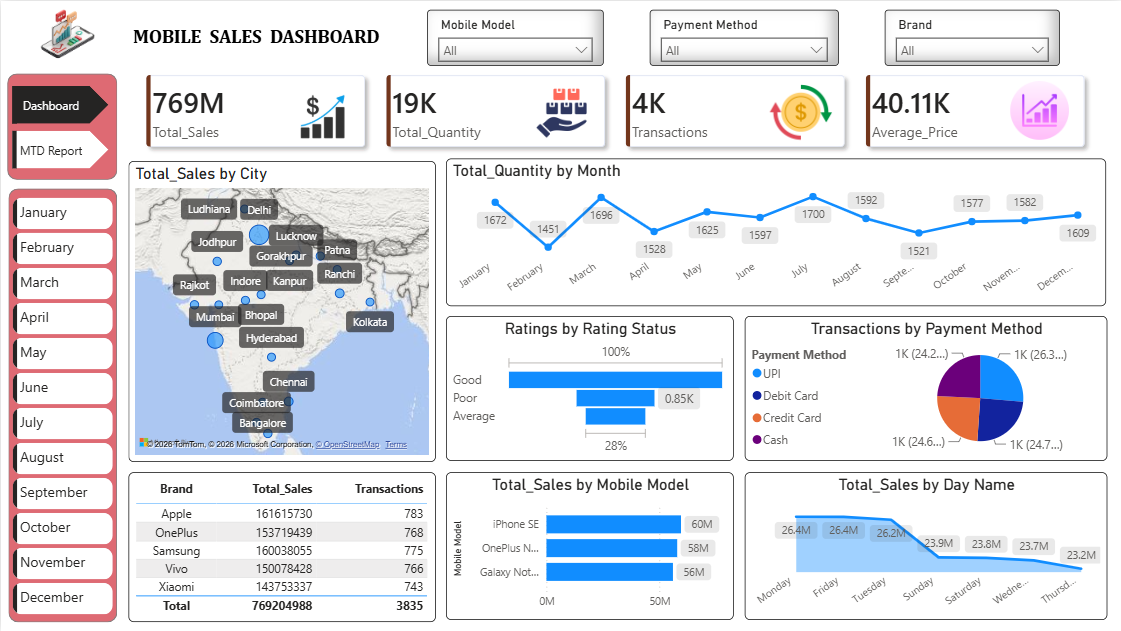

This screenshot's page, from the dashboard's own definition file:
{"tool":"powerbi","page":{"name":"Dashboard","canvas":[1280,720],"ordinal":0},"visuals":[{"type":"shape","box":[7.1,82.9,125.7,121.4],"z":0},{"type":"shape","box":[8.6,214.3,124.3,495.7],"z":1000},{"type":"cardVisual","fields":{"Data":["Sales_Data.Total_Sales","Sales_Data.Total_Quantity","Sales_Data.Transactions","Sales_Data.Average_Price"]},"box":[137.1,55.7,1141.4,137.1],"z":2000},{"type":"image","box":[336.7,107.6,60.8,50.6],"z":3000},{"type":"image","box":[605.1,98.7,69.6,59.5],"z":4000},{"type":"image","box":[878.5,89.9,70.9,74.7],"z":5000},{"type":"image","box":[1148.1,91.1,77.2,67.1],"z":6000},{"type":"textbox","box":[145.7,22.9,307.1,48.6],"z":7000},{"type":"map","fields":{"Category":["Sales_Data.City"],"Size":["Sales_Data.Total_Sales"]},"box":[145.7,182.9,351.4,344.3],"z":8000},{"type":"lineChart","fields":{"Category":["Custom_Calender.Date.Variation.Date Hierarchy.Month"],"Y":["Sales_Data.Total_Quantity"]},"box":[508.6,180,754.3,168.6],"z":9000},{"type":"funnel","title":"Ratings by Rating Status","fields":{"Y":["CountNonNull(Sales_Data.Customer Ratings)"],"Category":["Sales_Data.Rating Status"]},"box":[508.6,360,328.6,165.7],"z":10000},{"type":"pieChart","fields":{"Y":["Sales_Data.Transactions"],"Category":["Sales_Data.Payment Method"]},"box":[850,360,414.3,165.7],"z":11000},{"type":"clusteredBarChart","fields":{"Y":["Sales_Data.Total_Sales"],"Category":["Sales_Data.Mobile Model"]},"box":[508.6,538.6,328.6,168.6],"z":12000},{"type":"areaChart","fields":{"Y":["Sales_Data.Total_Sales"],"Category":["Custom_Calender.Day Name"]},"box":[850,538.6,414.3,168.6],"z":13000},{"type":"tableEx","fields":{"Values":["Sales_Data.Brand","Sales_Data.Total_Sales","Sales_Data.Transactions"]},"box":[145.7,538.6,351.4,171.4],"z":14000},{"type":"image","box":[7.1,2.9,137.1,71.4],"z":15000},{"type":"advancedSlicerVisual","fields":{"Values":["Custom_Calender.Date.Variation.Date Hierarchy.Month"]},"box":[8.6,220,124.3,492.9],"z":16000},{"type":"slicer","fields":{"Values":["Sales_Data.Mobile Model"]},"box":[487.1,10,201.4,64.3],"z":17000},{"type":"slicer","fields":{"Values":["Sales_Data.Payment Method"]},"box":[741.4,10,215.7,64.3],"z":18000},{"type":"slicer","fields":{"Values":["Sales_Data.Brand"]},"box":[1010,10,200,64.3],"z":19000},{"type":"pageNavigator","box":[12.9,97.1,110,94.3],"z":20000}]}

Visuals, with their boxes in screenshot pixels (x1, y1, x2, y2), scaled from the page's 1280x720 canvas onto the 1121x631 screenshot:
shape: [x1=6, y1=73, x2=116, y2=179]
shape: [x1=8, y1=188, x2=116, y2=622]
cardVisual - Sales_Data.Total_Sales x Sales_Data.Total_Quantity: [x1=120, y1=49, x2=1120, y2=169]
image: [x1=295, y1=94, x2=348, y2=139]
image: [x1=530, y1=86, x2=591, y2=139]
image: [x1=769, y1=79, x2=831, y2=144]
image: [x1=1005, y1=80, x2=1073, y2=139]
textbox: [x1=128, y1=20, x2=397, y2=63]
map - Sales_Data.City x Sales_Data.Total_Sales: [x1=128, y1=160, x2=435, y2=462]
lineChart - Custom_Calender.Date.Variation.Date Hierarchy.Month x Sales_Data.Total_Quantity: [x1=445, y1=158, x2=1106, y2=306]
"Ratings by Rating Status" funnel: [x1=445, y1=316, x2=733, y2=461]
pieChart - Sales_Data.Transactions x Sales_Data.Payment Method: [x1=744, y1=316, x2=1107, y2=461]
clusteredBarChart - Sales_Data.Total_Sales x Sales_Data.Mobile Model: [x1=445, y1=472, x2=733, y2=620]
areaChart - Sales_Data.Total_Sales x Custom_Calender.Day Name: [x1=744, y1=472, x2=1107, y2=620]
tableEx - Sales_Data.Brand x Sales_Data.Total_Sales: [x1=128, y1=472, x2=435, y2=622]
image: [x1=6, y1=3, x2=126, y2=65]
advancedSlicerVisual - Custom_Calender.Date.Variation.Date Hierarchy.Month: [x1=8, y1=193, x2=116, y2=625]
slicer - Sales_Data.Mobile Model: [x1=427, y1=9, x2=603, y2=65]
slicer - Sales_Data.Payment Method: [x1=649, y1=9, x2=838, y2=65]
slicer - Sales_Data.Brand: [x1=885, y1=9, x2=1060, y2=65]
pageNavigator: [x1=11, y1=85, x2=108, y2=168]
